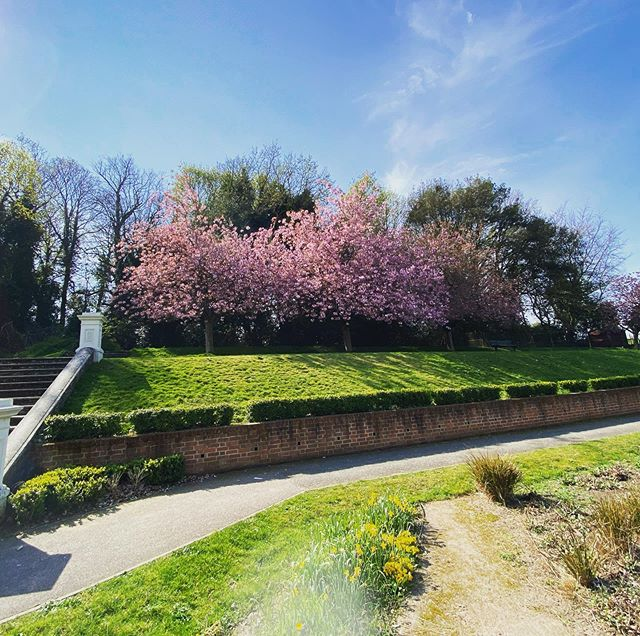grass: (75, 350, 620, 426)
sky: (1, 1, 640, 182)
vegetation: (28, 163, 625, 348)
